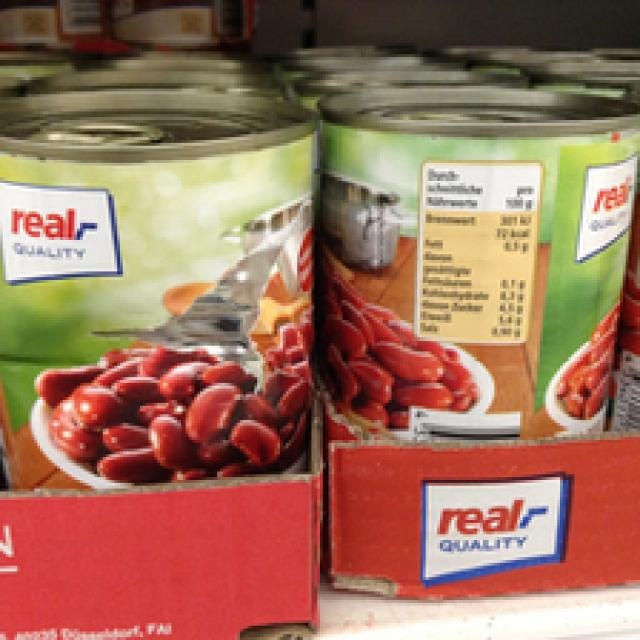groceries: (0, 83, 309, 488), (317, 86, 629, 451)
